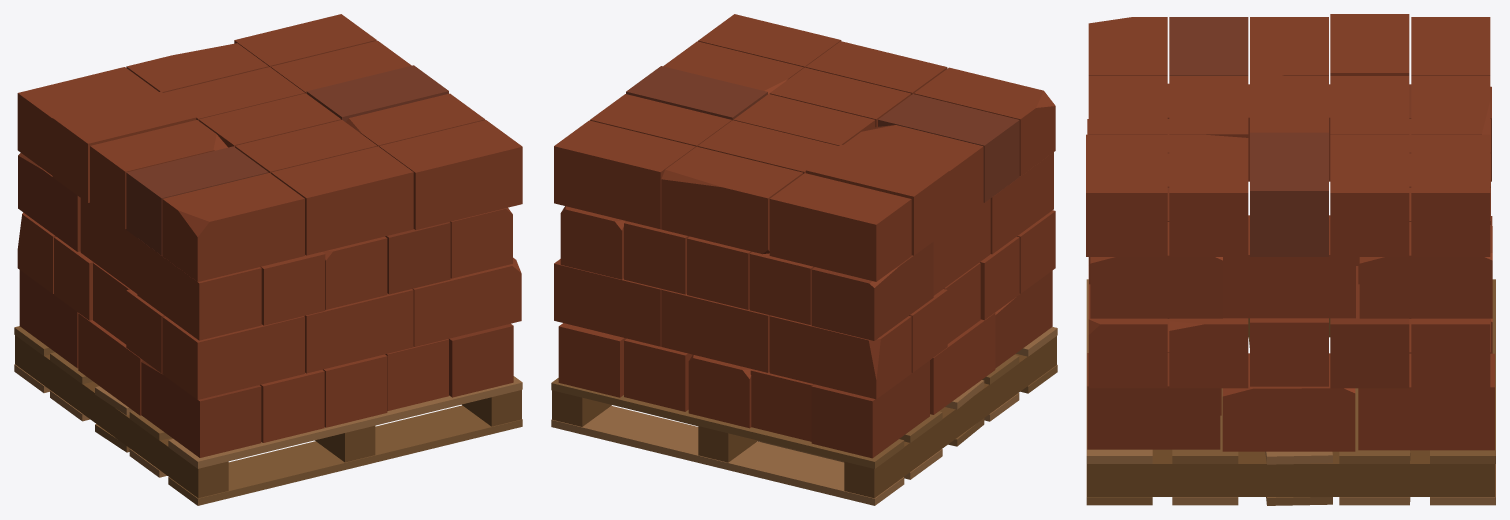
The model's file is SM_Props_Pallet_02.glb.
The picture shows the model from 3 angles, left to right: view 1: azimuth 30°, elevation 25°; view 2: azimuth 150°, elevation 25°; view 3: azimuth 270°, elevation 25°; orthographic projection. The views are drawn at different scales.
Parts seen in each view (by area): view 1: SM_Props_Pallet_02; view 2: SM_Props_Pallet_02; view 3: SM_Props_Pallet_02.
Boxes of the visible parts, x1,y1,x2,y2 form: SM_Props_Pallet_02: [14, 14, 522, 505]; SM_Props_Pallet_02: [551, 14, 1057, 505]; SM_Props_Pallet_02: [1086, 14, 1495, 505].
Size of the model in its own units: 1.21 by 1 by 1.18.
Materials: 1 (1 with a texture image).
